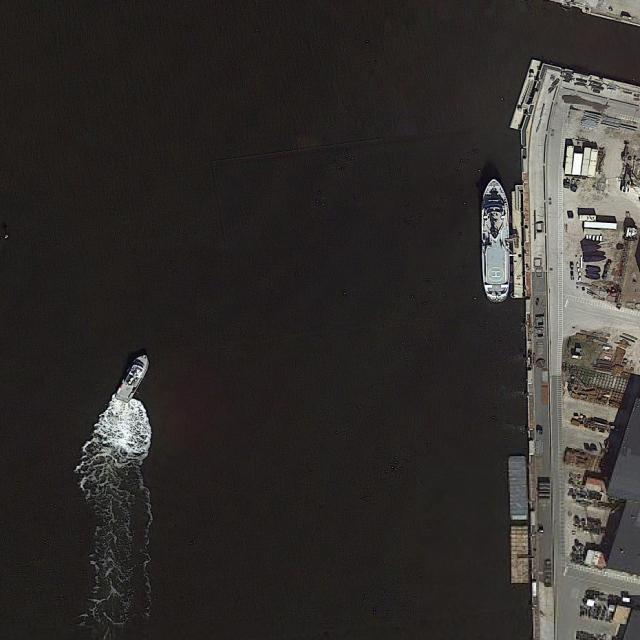Other Warship: (113, 350, 154, 405)
Yacht: (482, 178, 509, 299)
